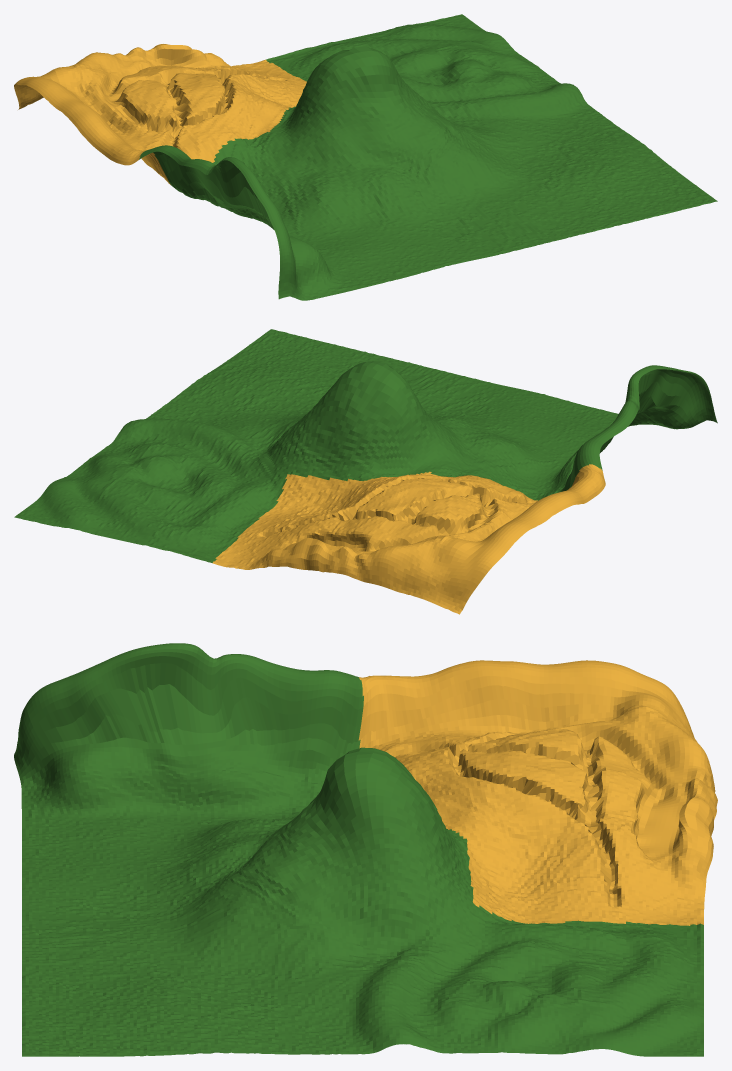
Rendered from low poly terrain.fbx.
The picture shows the model from 3 angles, top to bottom: view 1: azimuth 30°, elevation 25°; view 2: azimuth 150°, elevation 25°; view 3: azimuth 270°, elevation 25°; orthographic projection. The views are drawn at different scales.
Visible parts, largest first — view 1: Plane; view 2: Plane; view 3: Plane.
Part boxes in pixels (x1,y1,x2,y2): Plane: (14, 14, 717, 300); Plane: (14, 329, 717, 614); Plane: (14, 643, 717, 1056).
Size of the model in its own units: 8234 by 1900 by 7973.
